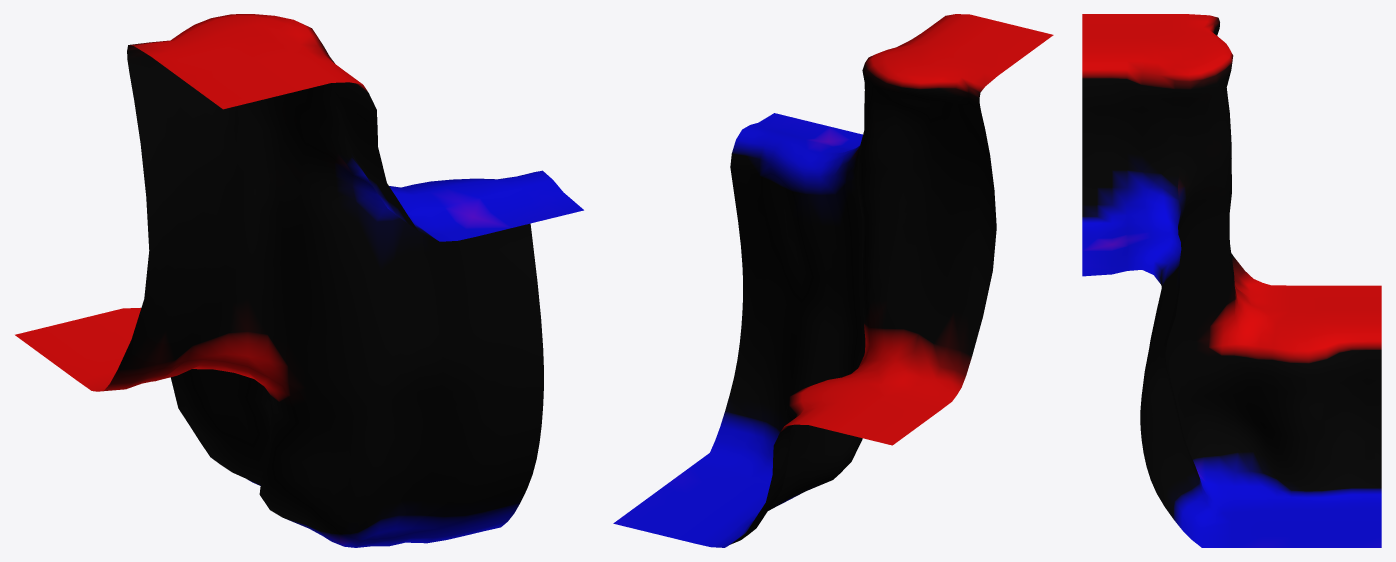
File: WaterFallCliff00B 3M.fbx
The picture shows the model from 3 angles, left to right: view 1: azimuth 30°, elevation 25°; view 2: azimuth 150°, elevation 25°; view 3: azimuth 270°, elevation 25°; orthographic projection. The views are drawn at different scales.
Visible parts, largest first — view 1: WaterFallCliff00B 3M; view 2: WaterFallCliff00B 3M; view 3: WaterFallCliff00B 3M.
Boxes of the visible parts, x1,y1,x2,y2 form: WaterFallCliff00B 3M: [15, 14, 583, 547]; WaterFallCliff00B 3M: [613, 14, 1053, 547]; WaterFallCliff00B 3M: [1082, 14, 1381, 547].
Size of the model in its own units: 2 by 3 by 2.
